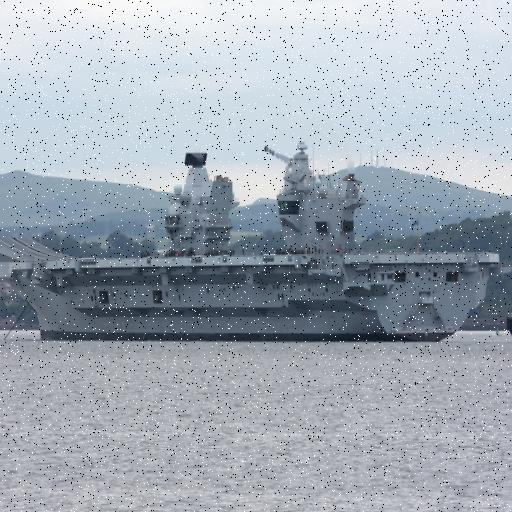Portanaves: (1, 121, 505, 347)
